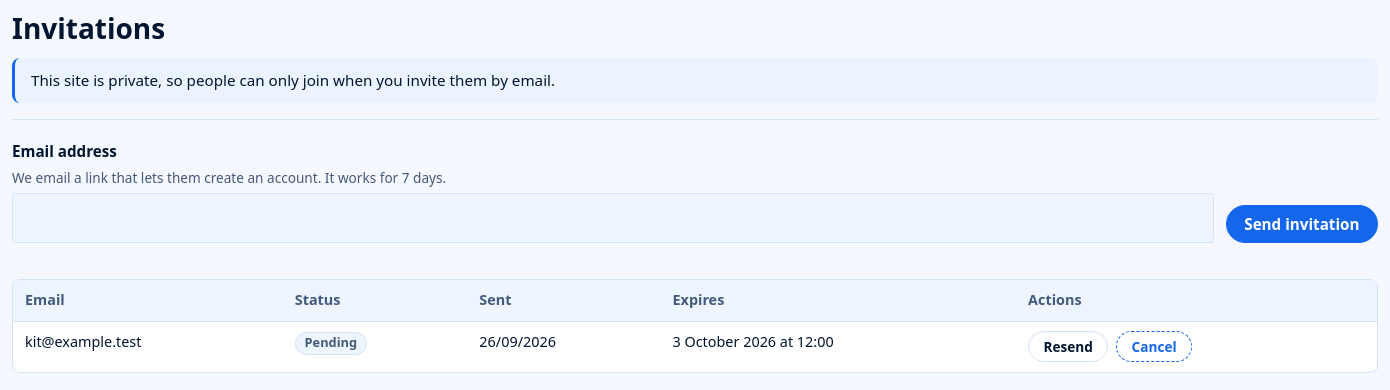
Test case: AdminInvitationsPage inviting someone › invites the address entered, without its spaces, and clears the field once it is sent
In the field labelled "Email address": (613, 218) [12,193,1214,243], type " robin@example.test "
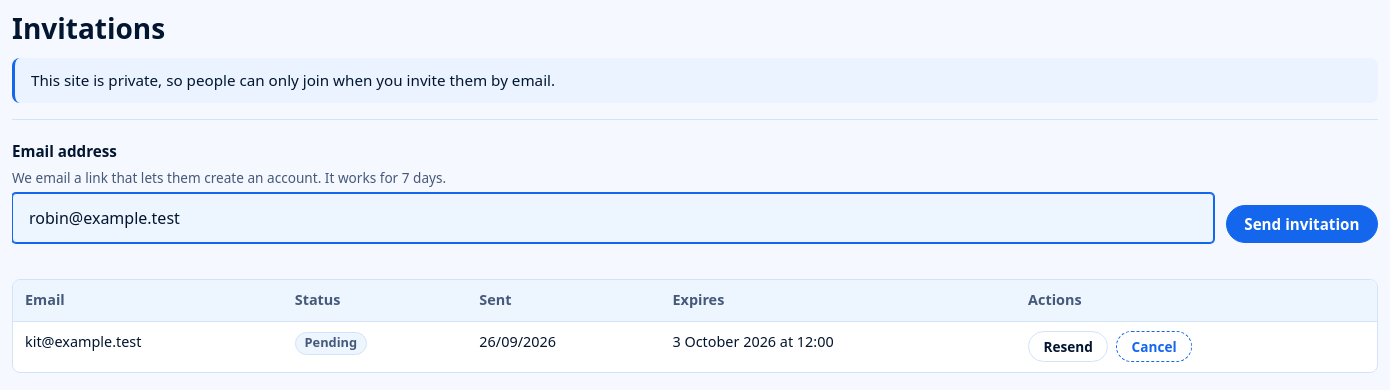
Click the button "Send invitation": (1302, 224) [1226,205,1378,243]
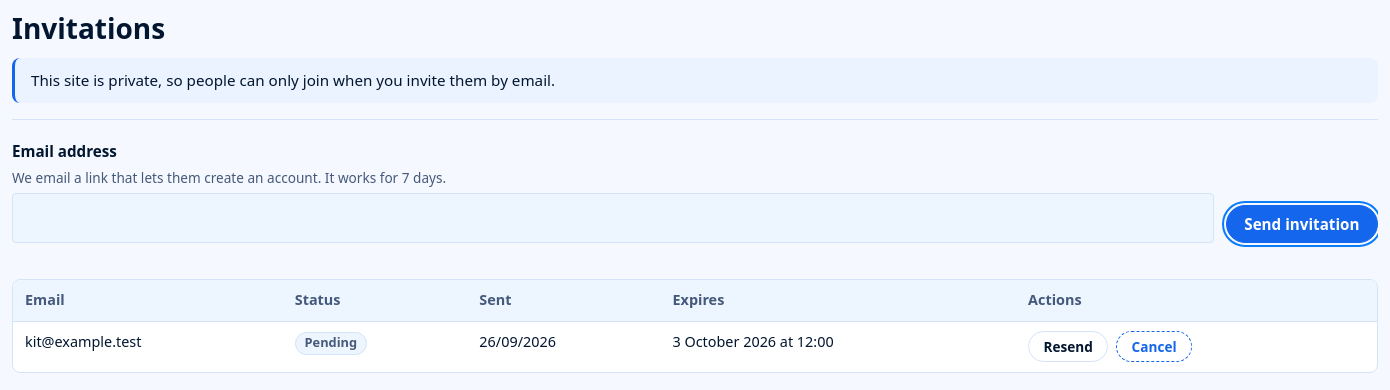
Expected: the field labelled "Email address" is empty, [12,193,1214,243]
